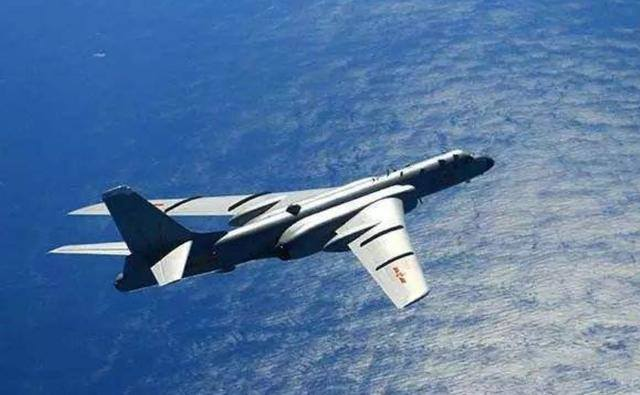airplane: (44, 150, 493, 309)
